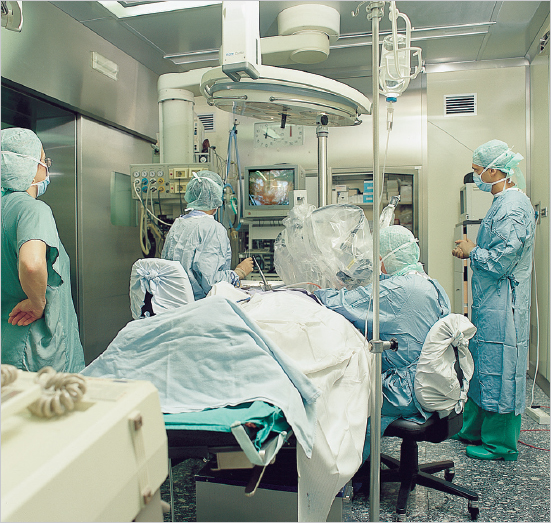bedside_monitor: (242, 165, 302, 215)
chair: (352, 312, 478, 522), (131, 258, 196, 321)
iv_pole: (350, 1, 427, 522)
medical_drawer: (325, 158, 425, 260)
operating_bed: (89, 302, 359, 523)
staff: (451, 138, 535, 498), (313, 225, 451, 420), (1, 128, 84, 379), (157, 170, 254, 302)
surgical_light: (200, 63, 371, 129)
